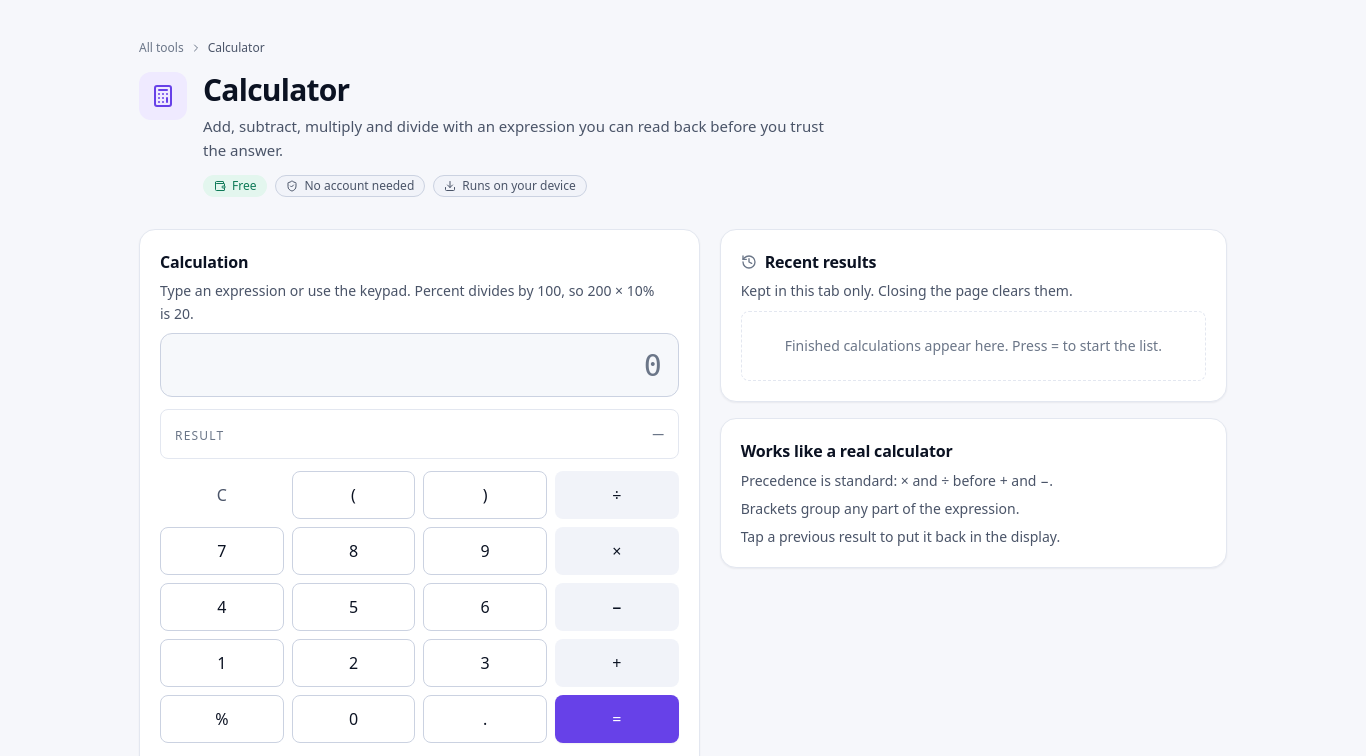
Scenario: CalculatorPage › evaluates a typed expression with correct precedence
Step 1. Type "2+3*4" into the field named "Calculation" → [419, 365], box 160,333 -> 679,397
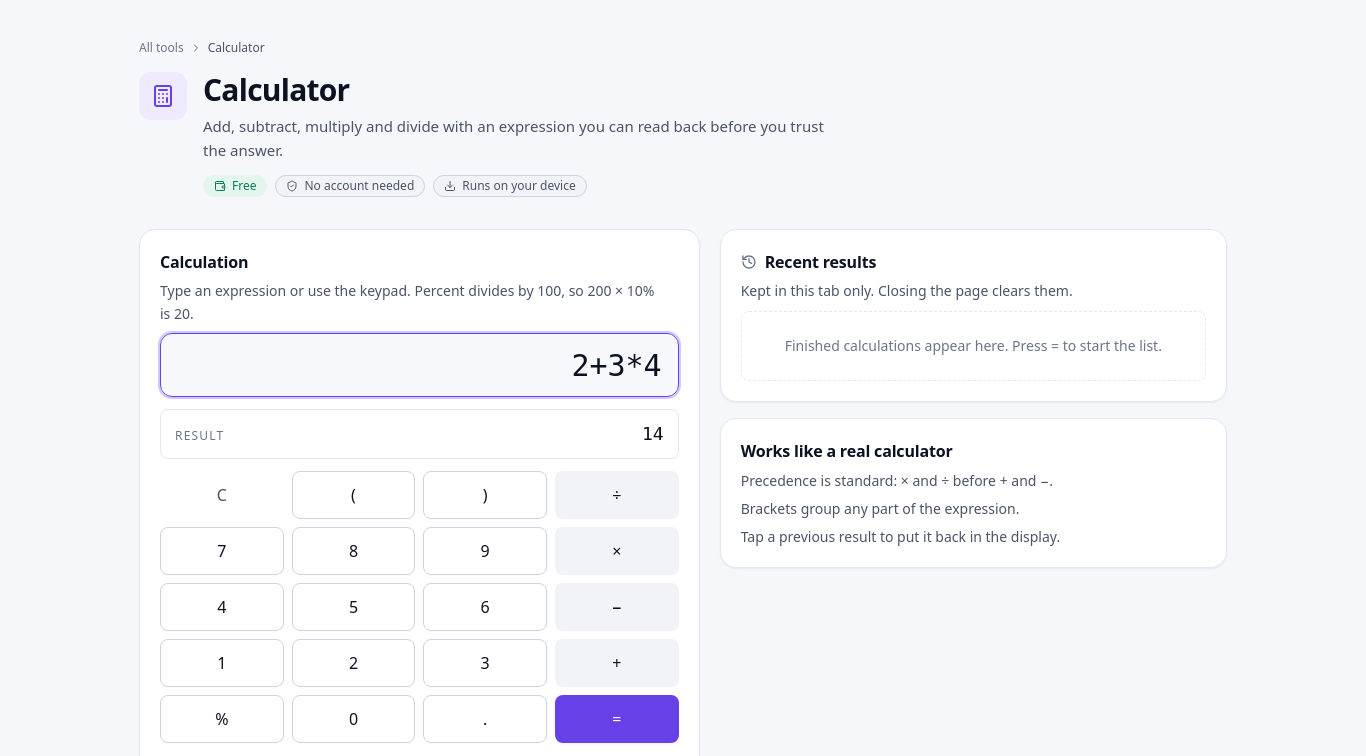
Expected: the text "14" is shown, 642,420 -> 664,448
